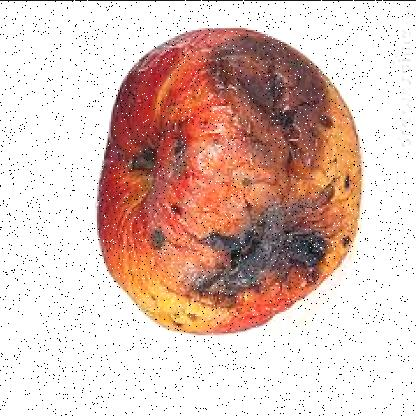damaged_apple: (96, 32, 360, 332)
